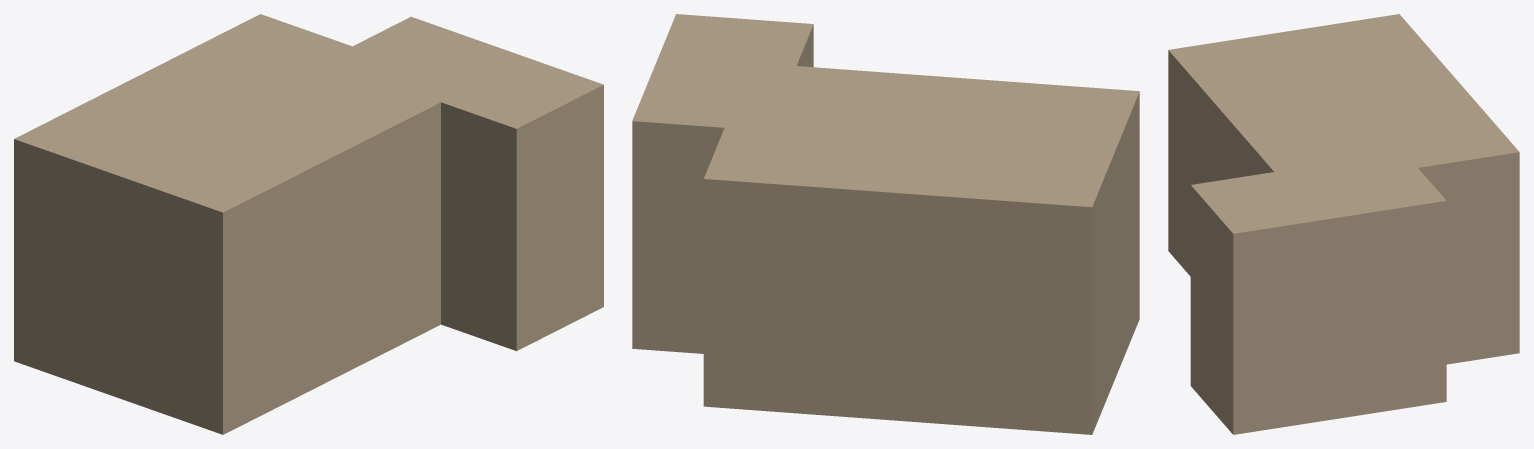
File: bld_101806046.dae
The picture shows the model from 3 angles, left to right: view 1: azimuth 30°, elevation 25°; view 2: azimuth 150°, elevation 25°; view 3: azimuth 270°, elevation 25°; orthographic projection. The views are drawn at different scales.
Visible parts, largest first — view 1: Velmdre; view 2: Velmdre; view 3: Velmdre.
Part boxes in pixels (left/top/right/bottom): Velmdre: left=14, top=14, right=603, bottom=434; Velmdre: left=632, top=14, right=1139, bottom=434; Velmdre: left=1168, top=14, right=1519, bottom=434.
Bounding box in the file's own units: 18.76 × 12.67 × 8.
